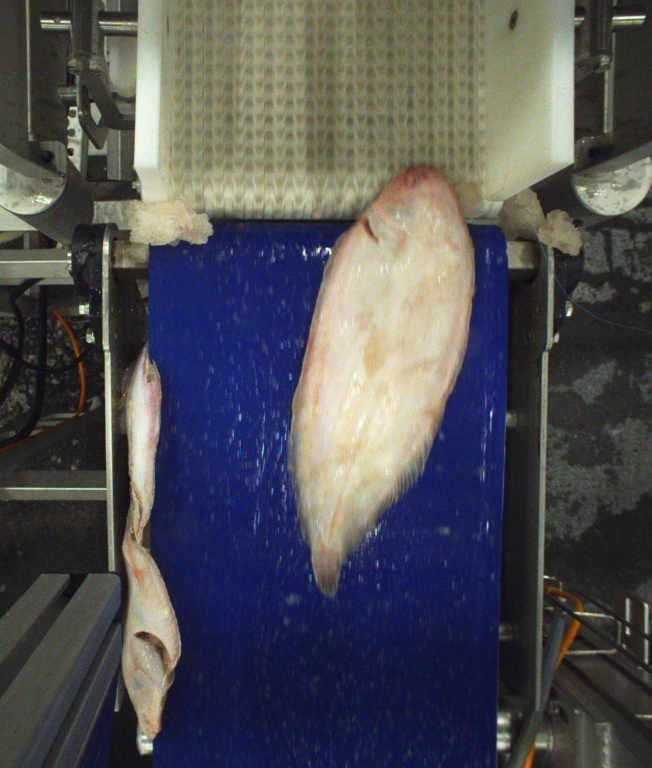SOL: (287, 163, 475, 599)
